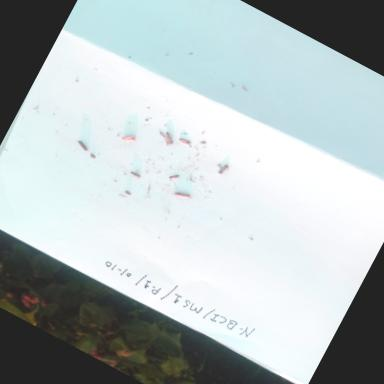pbw: (208, 155, 238, 184), (164, 182, 196, 208), (114, 125, 138, 149), (173, 132, 196, 154), (158, 130, 178, 150), (72, 138, 90, 154), (165, 170, 181, 186), (126, 168, 142, 181)
